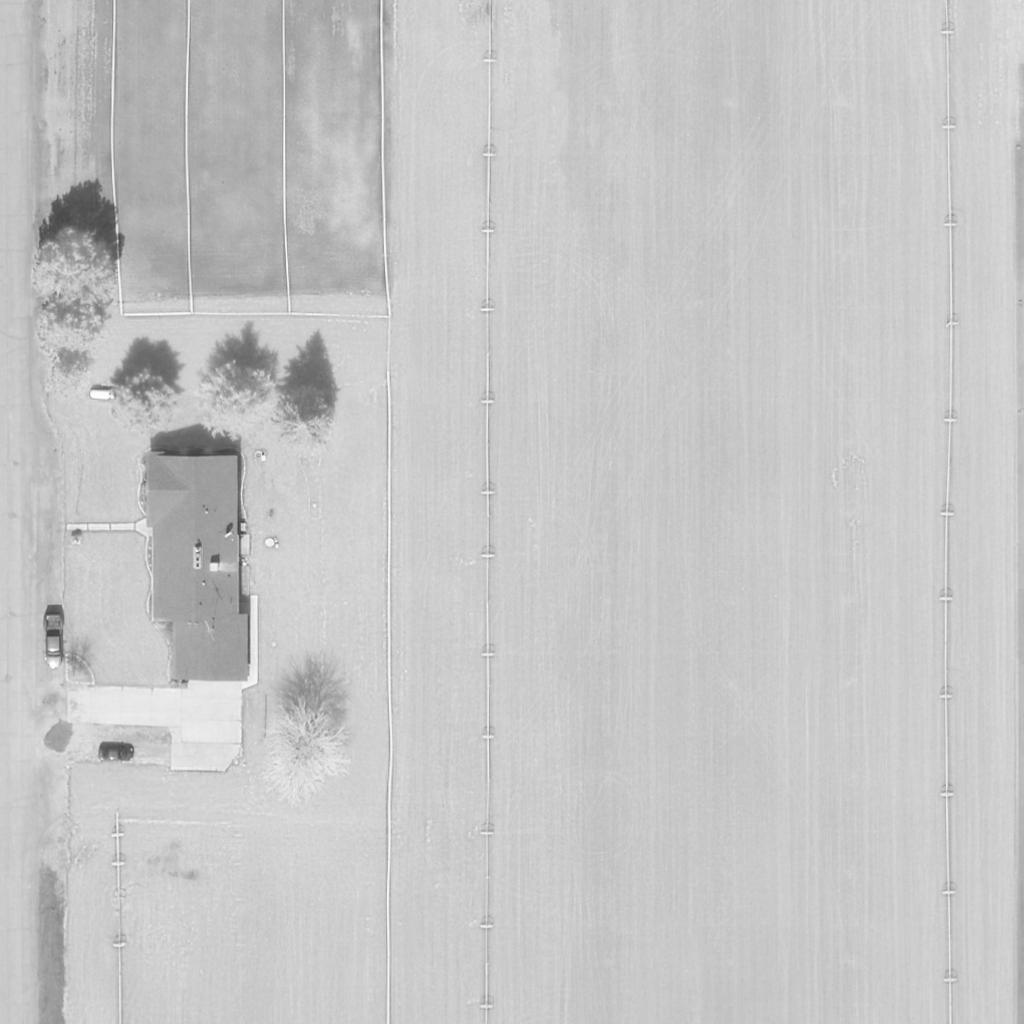vehicle: (45, 614, 63, 670), (97, 748, 135, 764)
